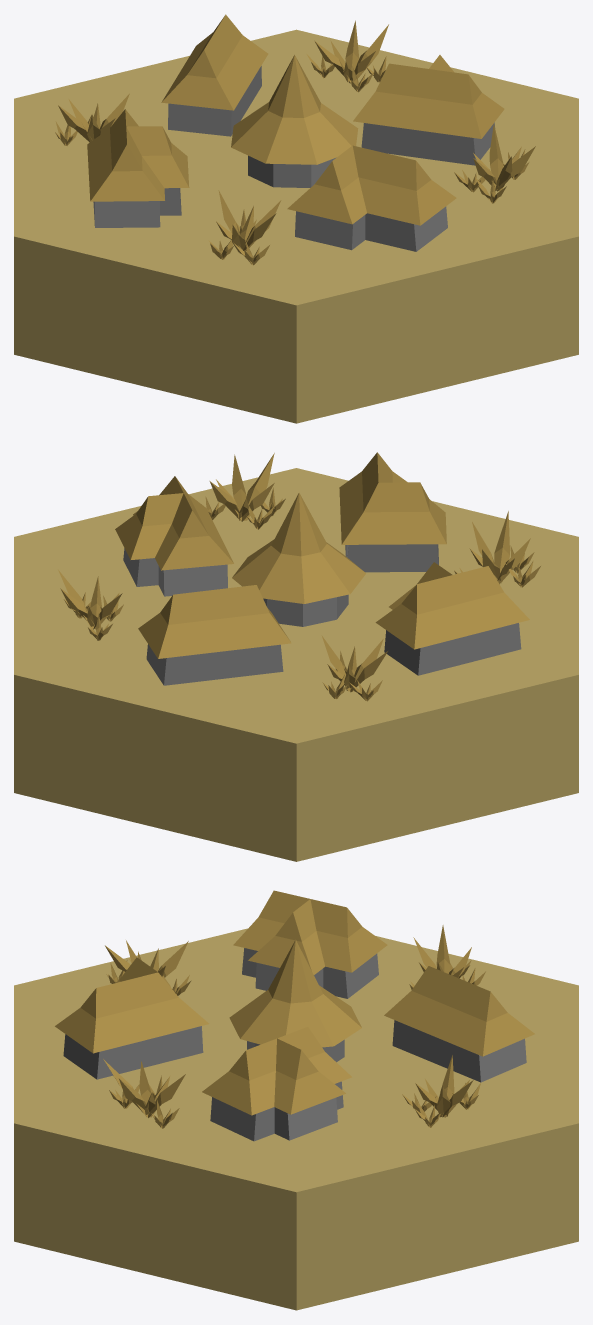
Rendered from Casas_Arido_5.fbx.
3 renders of one model, top to bottom at view 1: azimuth 30°, elevation 25°; view 2: azimuth 150°, elevation 25°; view 3: azimuth 270°, elevation 25°, orthographic.
Visible parts, largest first — view 1: Casas_Arido_5; view 2: Casas_Arido_5; view 3: Casas_Arido_5.
Part boxes in pixels (bbox=[...]): Casas_Arido_5: bbox=[14, 14, 578, 423]; Casas_Arido_5: bbox=[14, 452, 578, 861]; Casas_Arido_5: bbox=[14, 890, 578, 1310].
Size of the model in its own units: 200 by 78.5 by 173.
